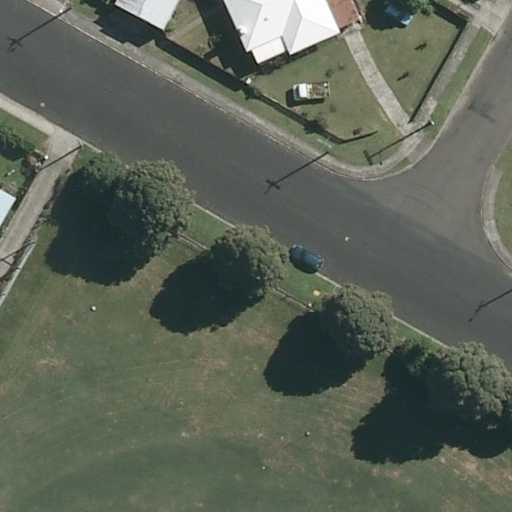DT: (418, 108, 440, 130), (316, 131, 333, 156)
